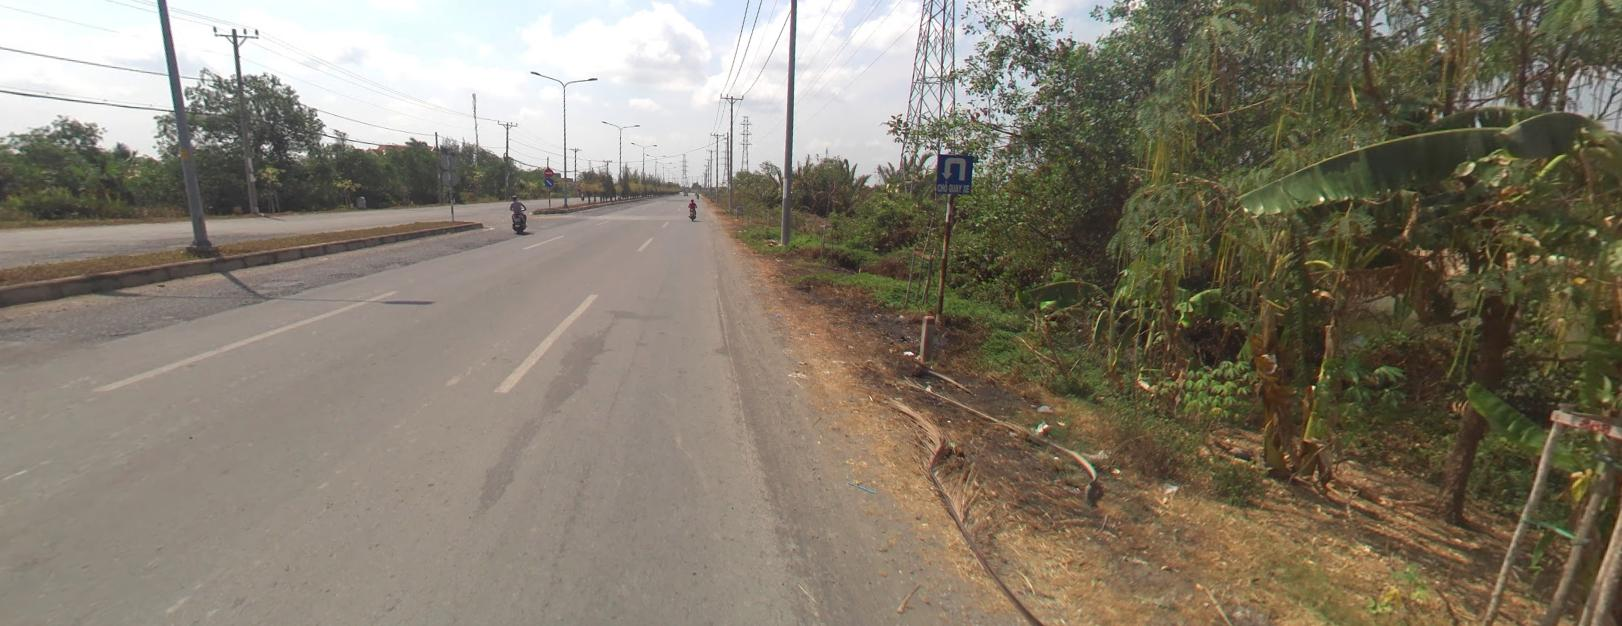Cam nguoc chieu: (543, 167, 552, 176)
Hieu lenh: (544, 176, 553, 185)
